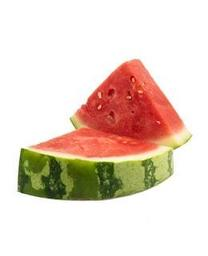watermelon: (16, 58, 193, 197)
